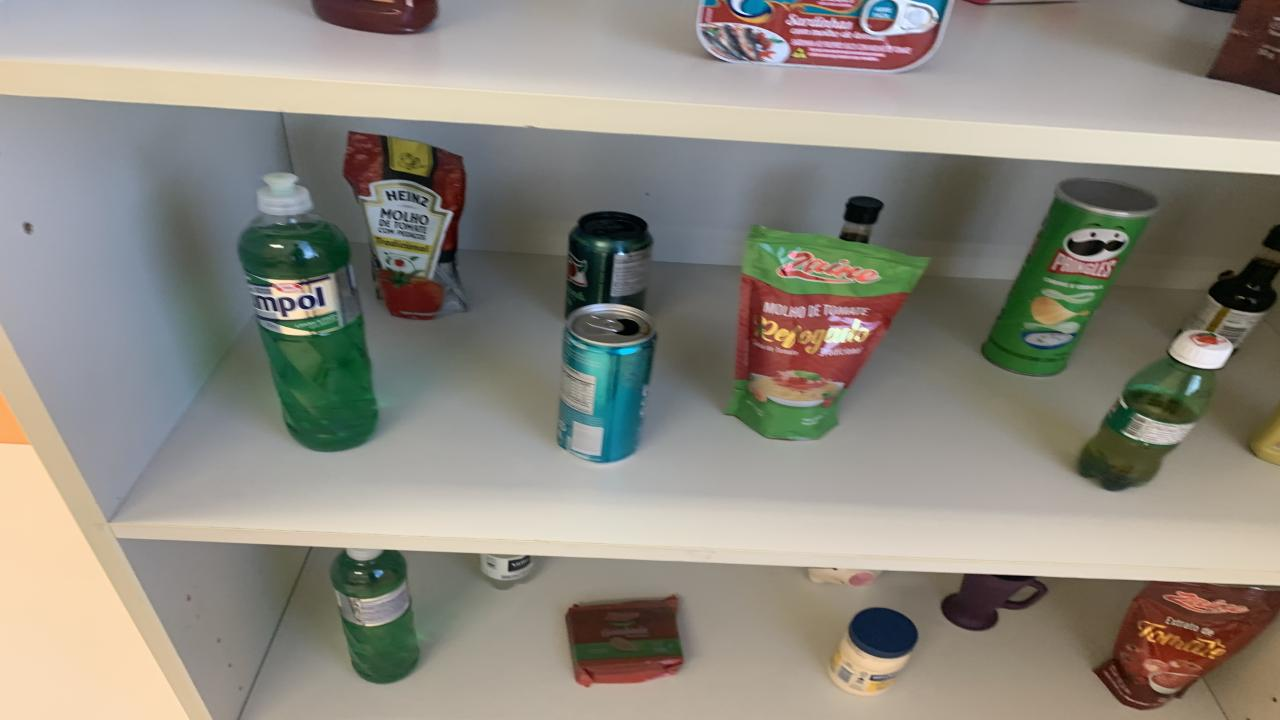Coffee-Pantry_Items: (1208, 0, 1280, 94)
Detergent-Cleanup_Items: (238, 174, 378, 450), (330, 549, 420, 682)
English_Sauce-Pantry_Items: (1185, 225, 1280, 349), (840, 197, 882, 244)
Guarana-Drinks: (1078, 330, 1232, 491)
Guarana_Can-Drinks: (565, 212, 652, 315)
Guava-Snacks: (565, 594, 682, 686)
Ketchup-Pantry_Items: (312, 0, 438, 34)
Mayonnaise-Pantry_Items: (830, 608, 918, 696)
Pig_Safe-Miscellaneous: (808, 568, 882, 587)
Pringles-Snacks: (982, 178, 1158, 375)
Soda-Drinks: (480, 553, 535, 589)
Tea-Drinks: (558, 304, 655, 463)
Tomato_Sauce-Pantry_Items: (728, 227, 930, 441), (342, 131, 468, 319), (1095, 581, 1280, 709)
Tuna_Can-Pantry_Items: (695, 0, 952, 73)
